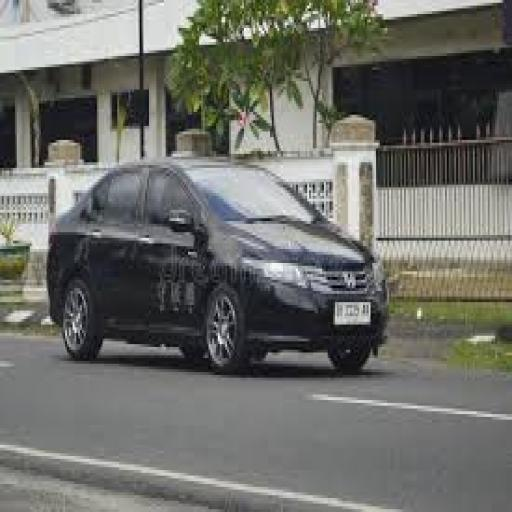License: (328, 296, 376, 328)
